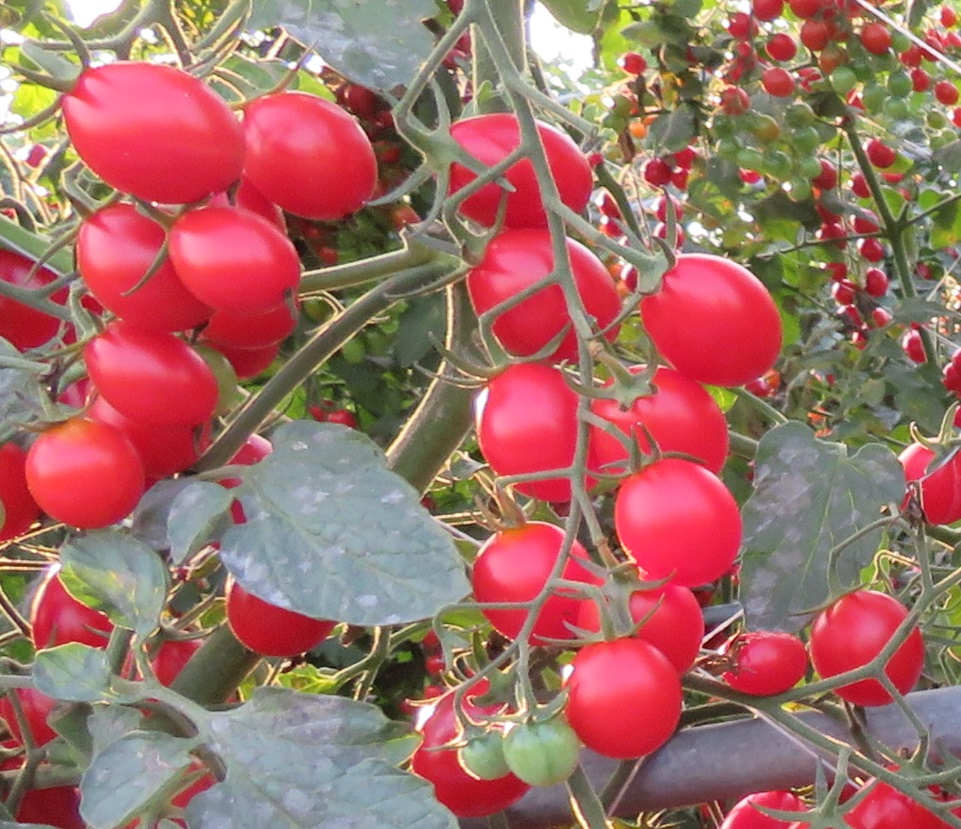green: (504, 719, 581, 789), (455, 731, 509, 783), (763, 147, 797, 183), (782, 170, 814, 207), (789, 124, 821, 156), (338, 335, 371, 366), (753, 113, 783, 143), (878, 96, 910, 124), (830, 66, 859, 95), (883, 68, 915, 94), (715, 135, 744, 158), (923, 108, 952, 130)
red: (59, 57, 243, 203), (464, 225, 624, 367), (433, 109, 596, 230), (640, 253, 784, 387), (474, 361, 601, 506), (408, 675, 536, 817), (67, 207, 211, 330), (587, 360, 731, 483), (241, 91, 376, 216), (469, 520, 599, 648), (619, 458, 739, 588), (73, 318, 220, 421), (809, 584, 927, 709), (23, 416, 144, 532), (162, 210, 303, 306), (570, 637, 681, 755), (606, 580, 707, 684), (220, 571, 339, 659), (891, 433, 960, 532), (716, 630, 812, 698), (718, 789, 812, 829), (859, 20, 897, 58), (757, 66, 798, 101), (797, 15, 832, 54), (865, 136, 900, 171), (639, 154, 673, 189), (724, 10, 759, 44), (763, 32, 798, 64), (612, 49, 651, 77), (901, 329, 930, 366), (863, 266, 889, 302), (747, 1, 789, 22), (830, 279, 861, 307), (933, 77, 961, 108), (857, 235, 883, 264)
